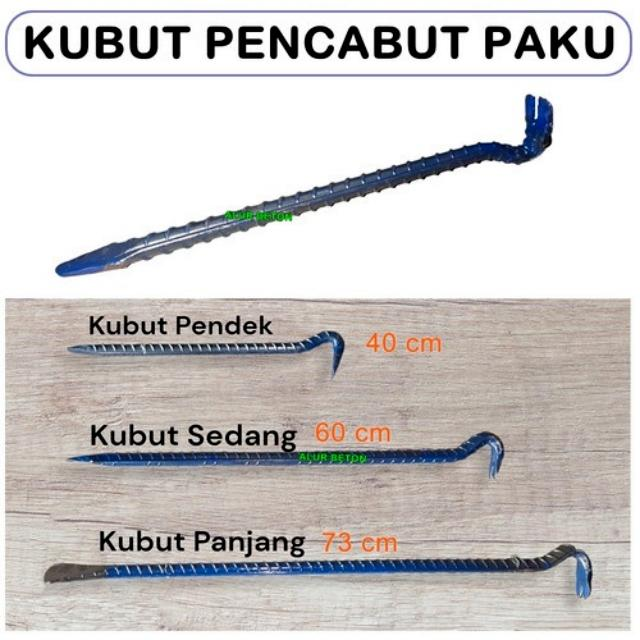crow bar: (54, 91, 555, 279), (40, 530, 596, 606), (71, 425, 509, 484), (60, 324, 344, 383)
